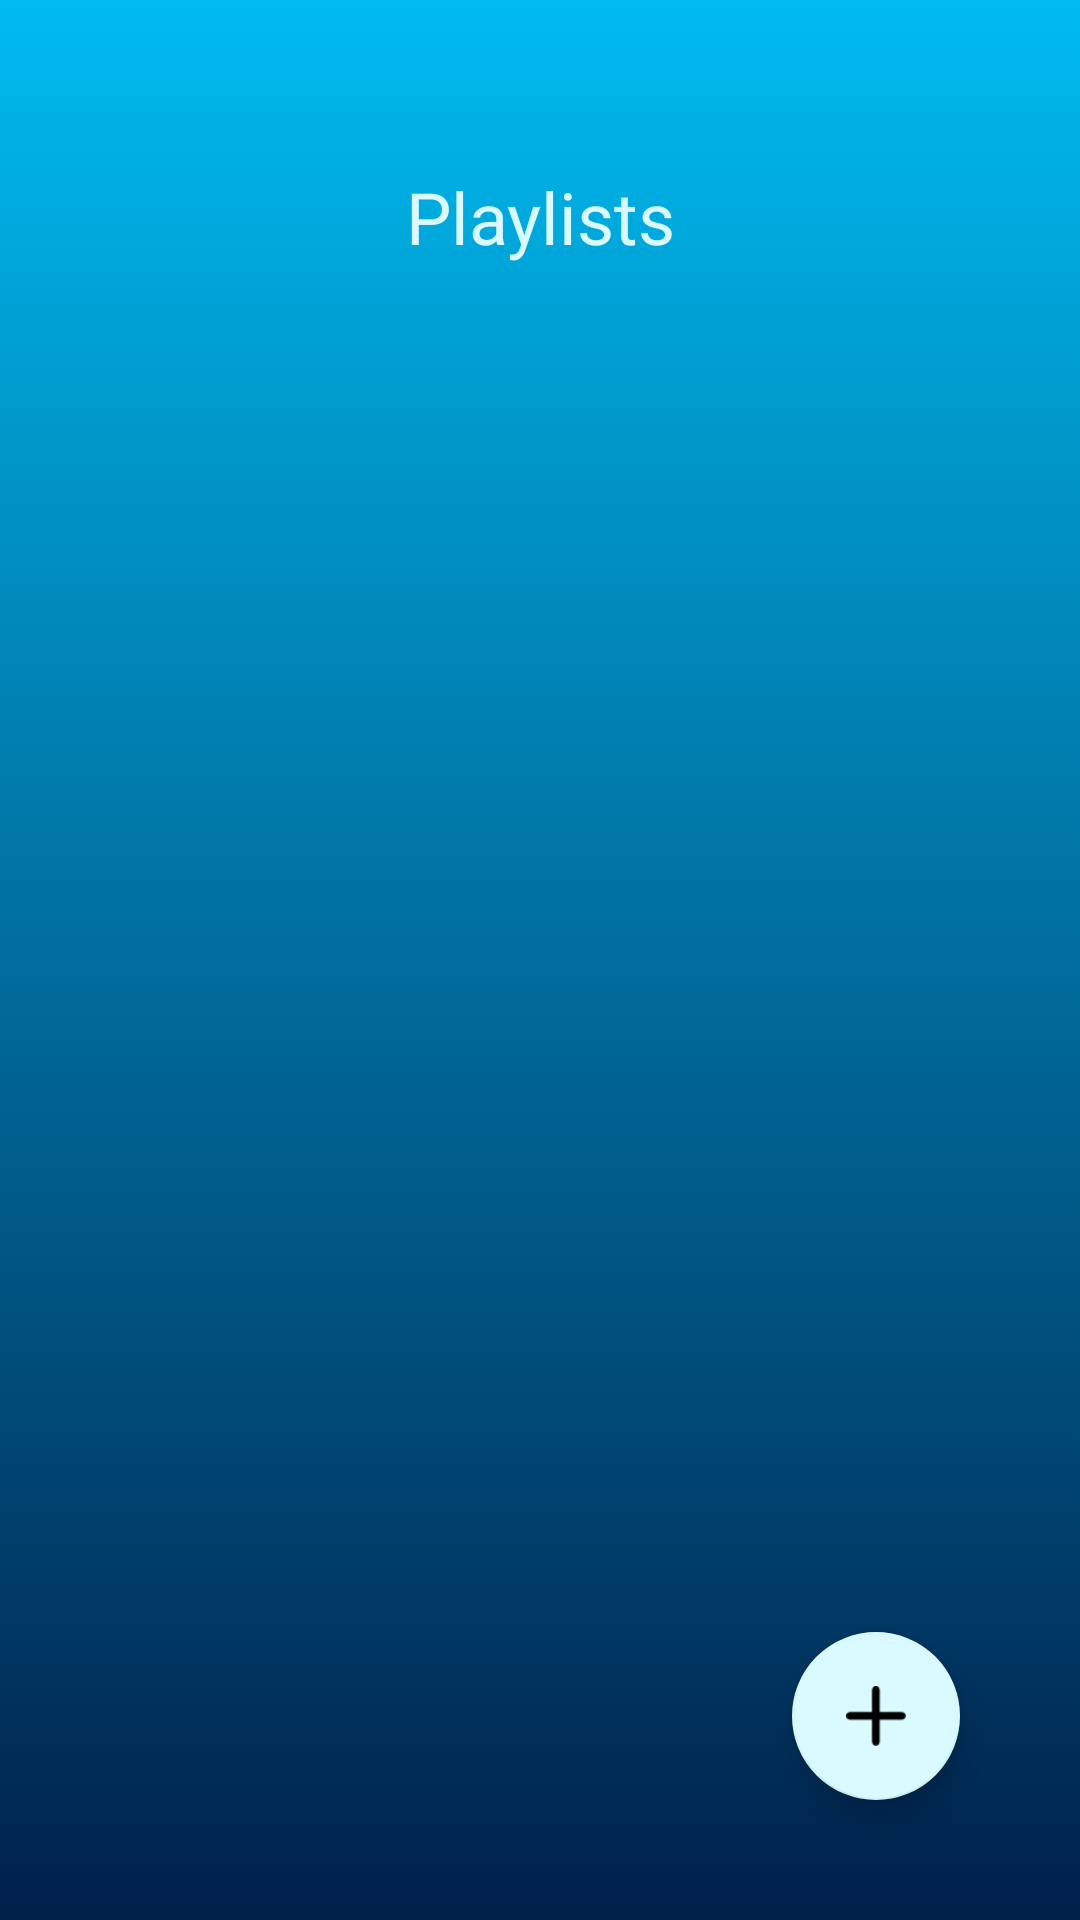

Named icons in this screenshot (1080x1920) and their centers, (x=x, y=y):
floatingbutton add: (x=876, y=1716)
